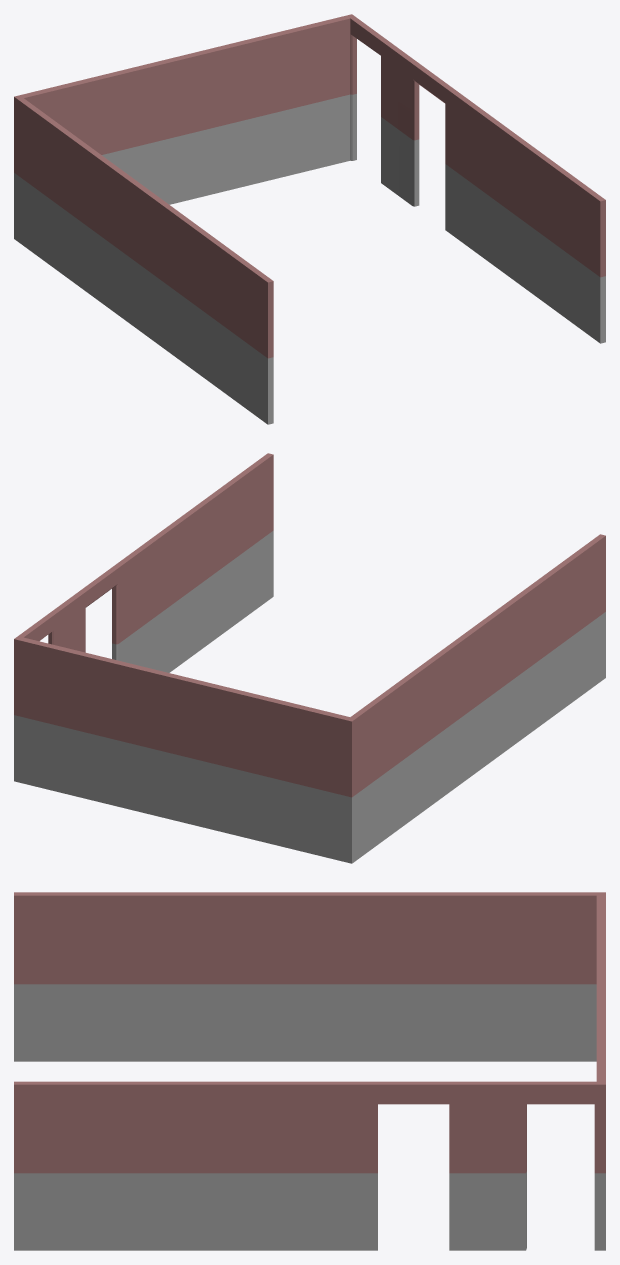
The model's file is level_05_walls.fbx.
3 views of the same model, one above another, from view 1: azimuth 30°, elevation 25°; view 2: azimuth 150°, elevation 25°; view 3: azimuth 270°, elevation 25° (orthographic). The views are drawn at different scales.
Visible parts, largest first — view 1: walls2; view 2: walls2; view 3: walls2.
Boxes of the visible parts, bbox=[...] form: walls2: bbox=[14, 14, 605, 424]; walls2: bbox=[14, 453, 605, 863]; walls2: bbox=[14, 892, 605, 1250].
Size of the model in its own units: 12.42 by 4.99 by 16.16.
